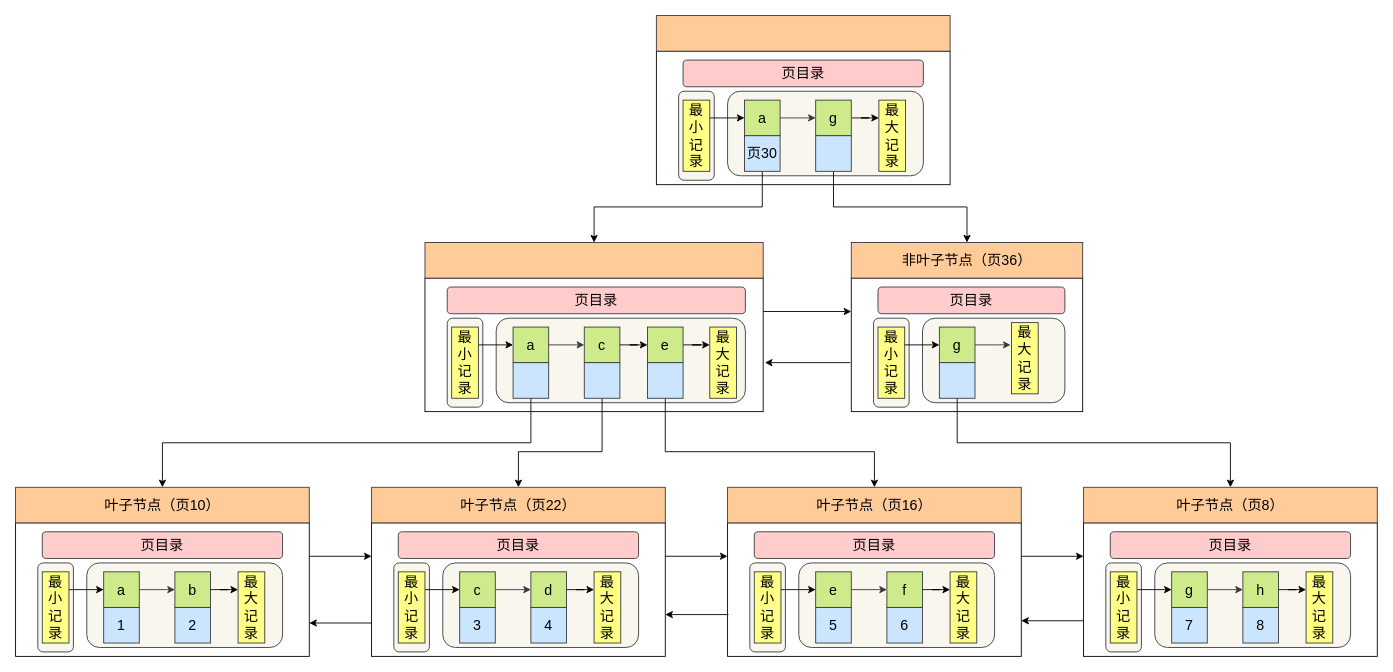
Image size: 1393x672. Some labels were removed from this diagram. The centre of each missing label's shape, as x and y in pixels:
"根叶子节点（页38）" belongs at (x=802, y=33).
"非叶子节点（页30）" belongs at (x=593, y=260).
"页10" belongs at (x=530, y=380).
"页16" belongs at (x=665, y=380).
"页22" belongs at (x=601, y=380).
"页36" belongs at (x=833, y=153).
"页8" belongs at (x=957, y=380).
